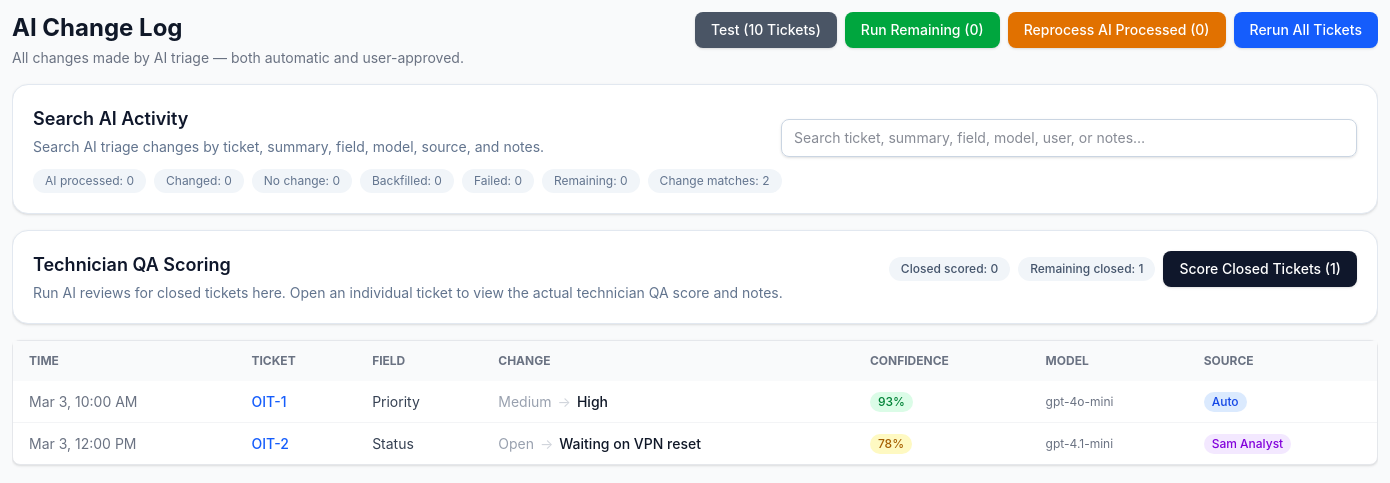
Scenario: AILogPage › filters AI change log entries with the search box
Expected: the text "Waiting on VPN reset" is shown, [559,434,701,452]
Expected: the text "High" is shown, [577,392,608,410]
Type "vpn" into the search field named "Search AI log" at (1069, 138), box [781,119,1357,157]
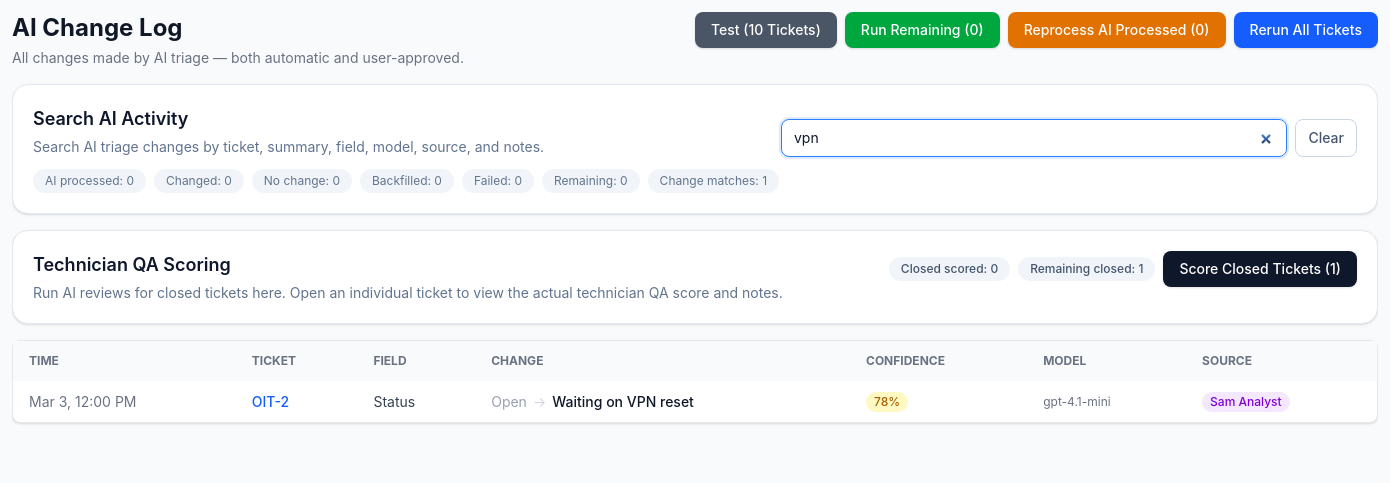
Expected: the text "Waiting on VPN reset" is shown, [552,392,694,410]
Result: the text "High" is gone
